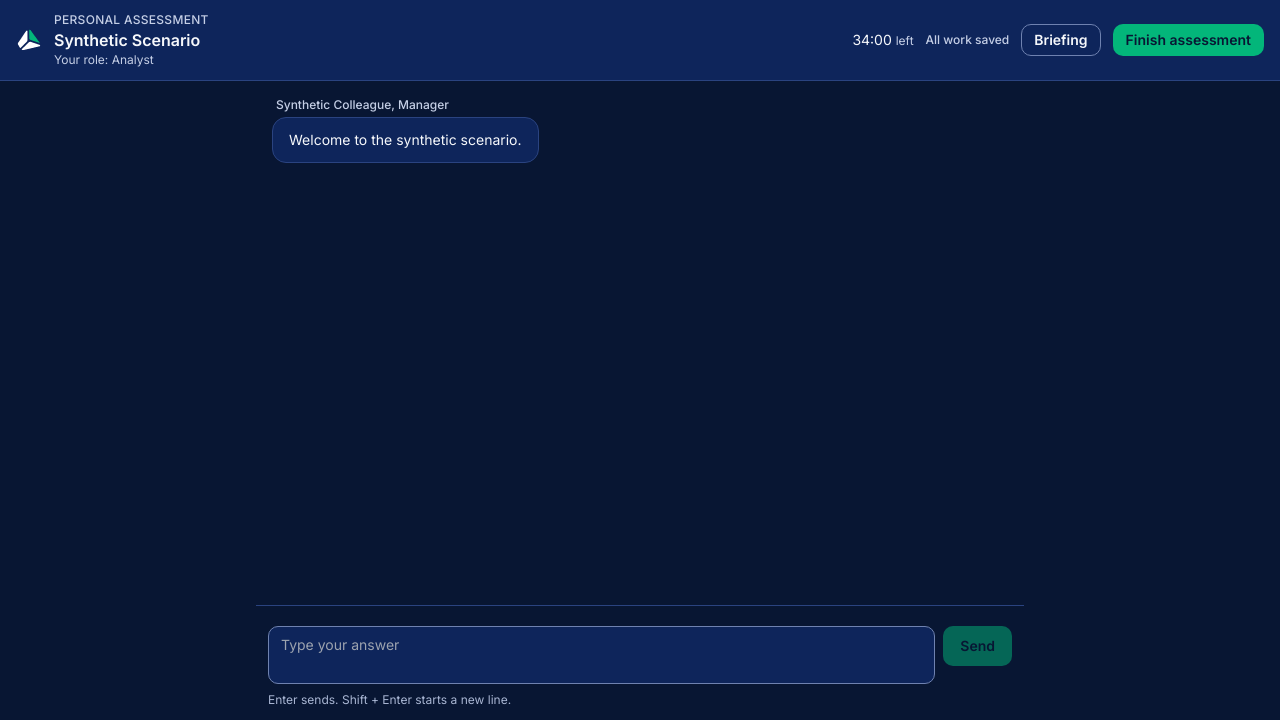
Scenario: Assessment Workspace V3 player (§12) › a failed send keeps the answer, invents nothing, and retries with the same event id
Type "Keep this answer" into the text box labelled "your answer" at (602, 655), box [268, 626, 935, 684]
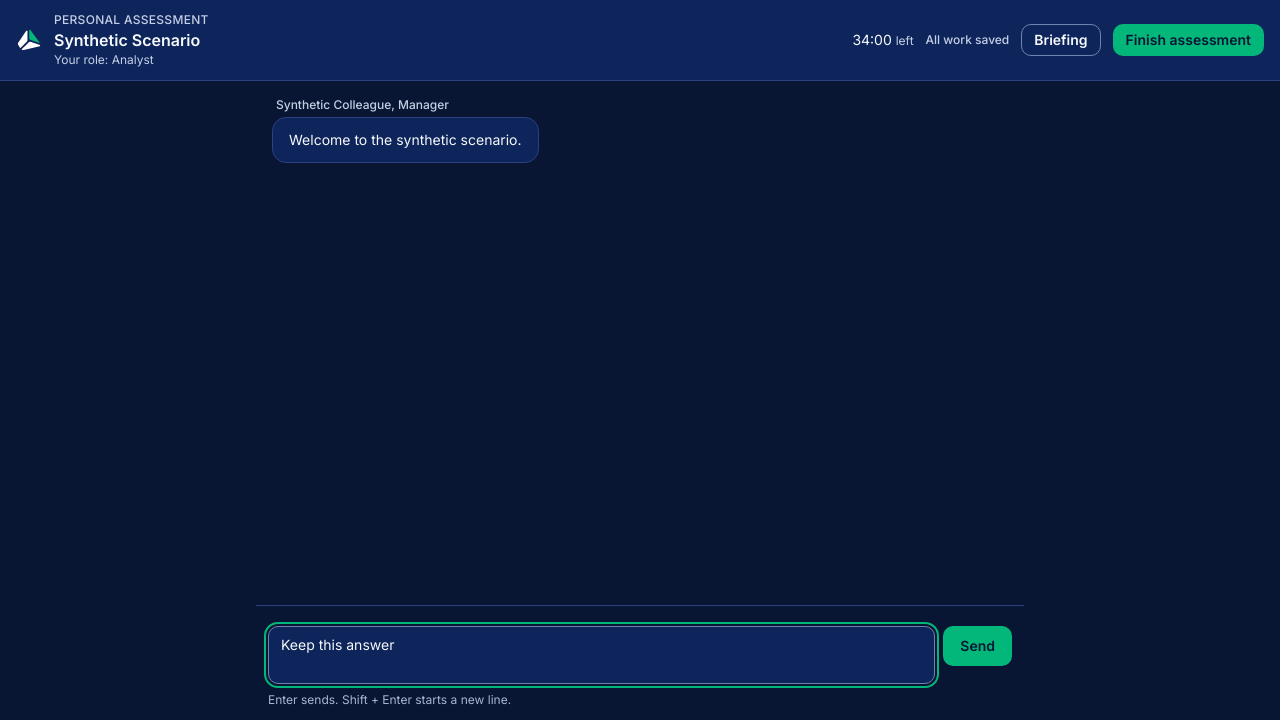
Click the button "Send" at (978, 646), box [943, 626, 1012, 666]
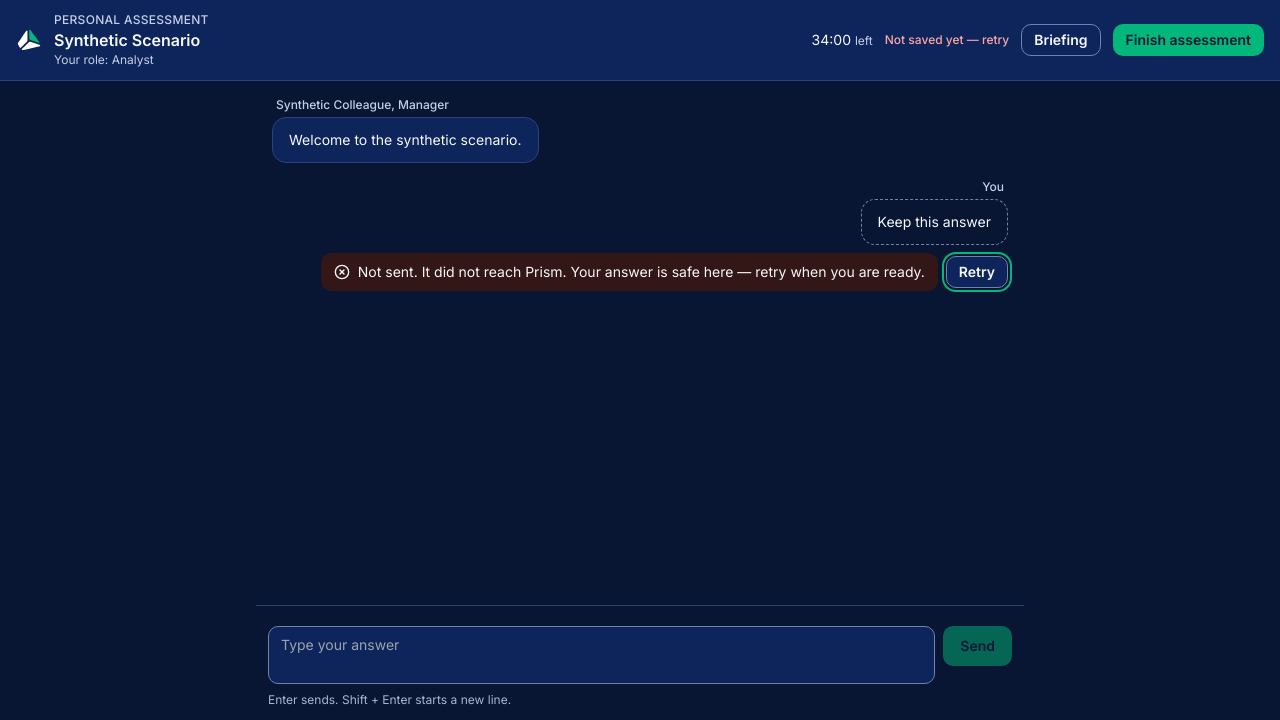
Expected: the text "Not sent." is shown, [358, 263, 422, 280]
Expected: the text "Keep this answer" is shown, [861, 199, 1008, 245]
Click the button "Retry" at (977, 272), box [946, 256, 1008, 288]
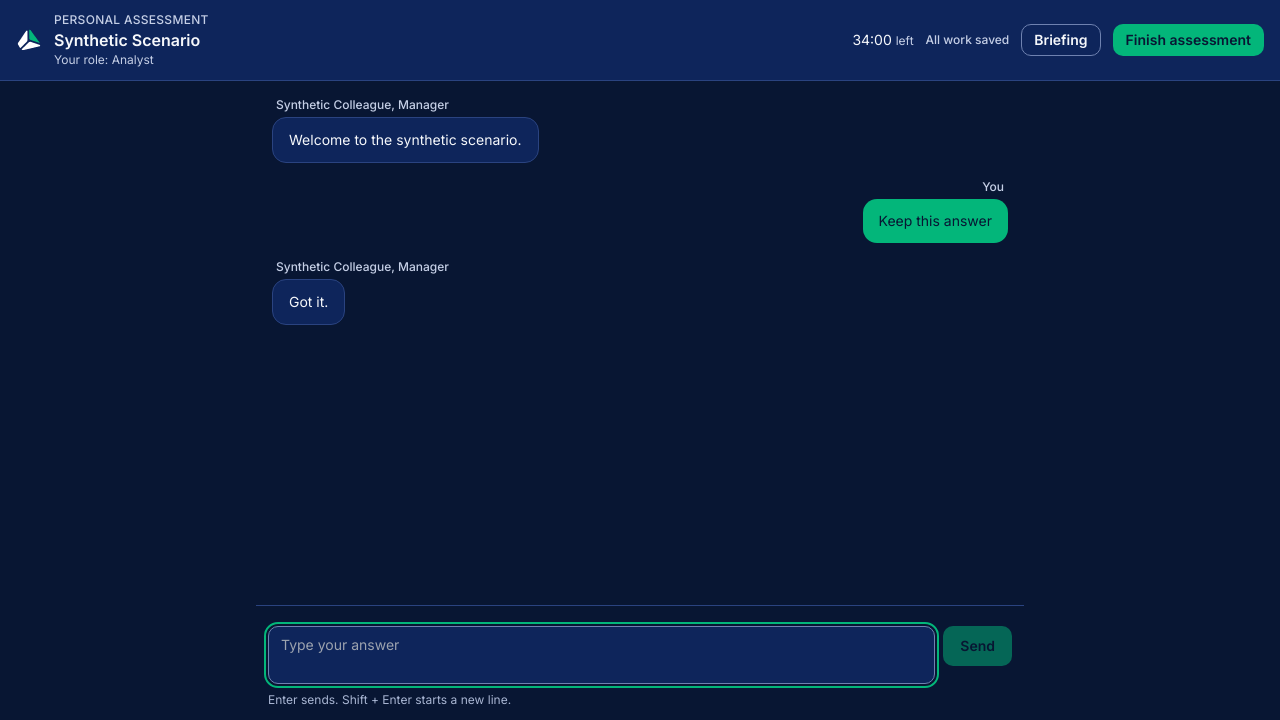
Expected: the text "Got it." is shown, [272, 279, 345, 325]
